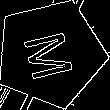M_E: (19, 25, 82, 82)
